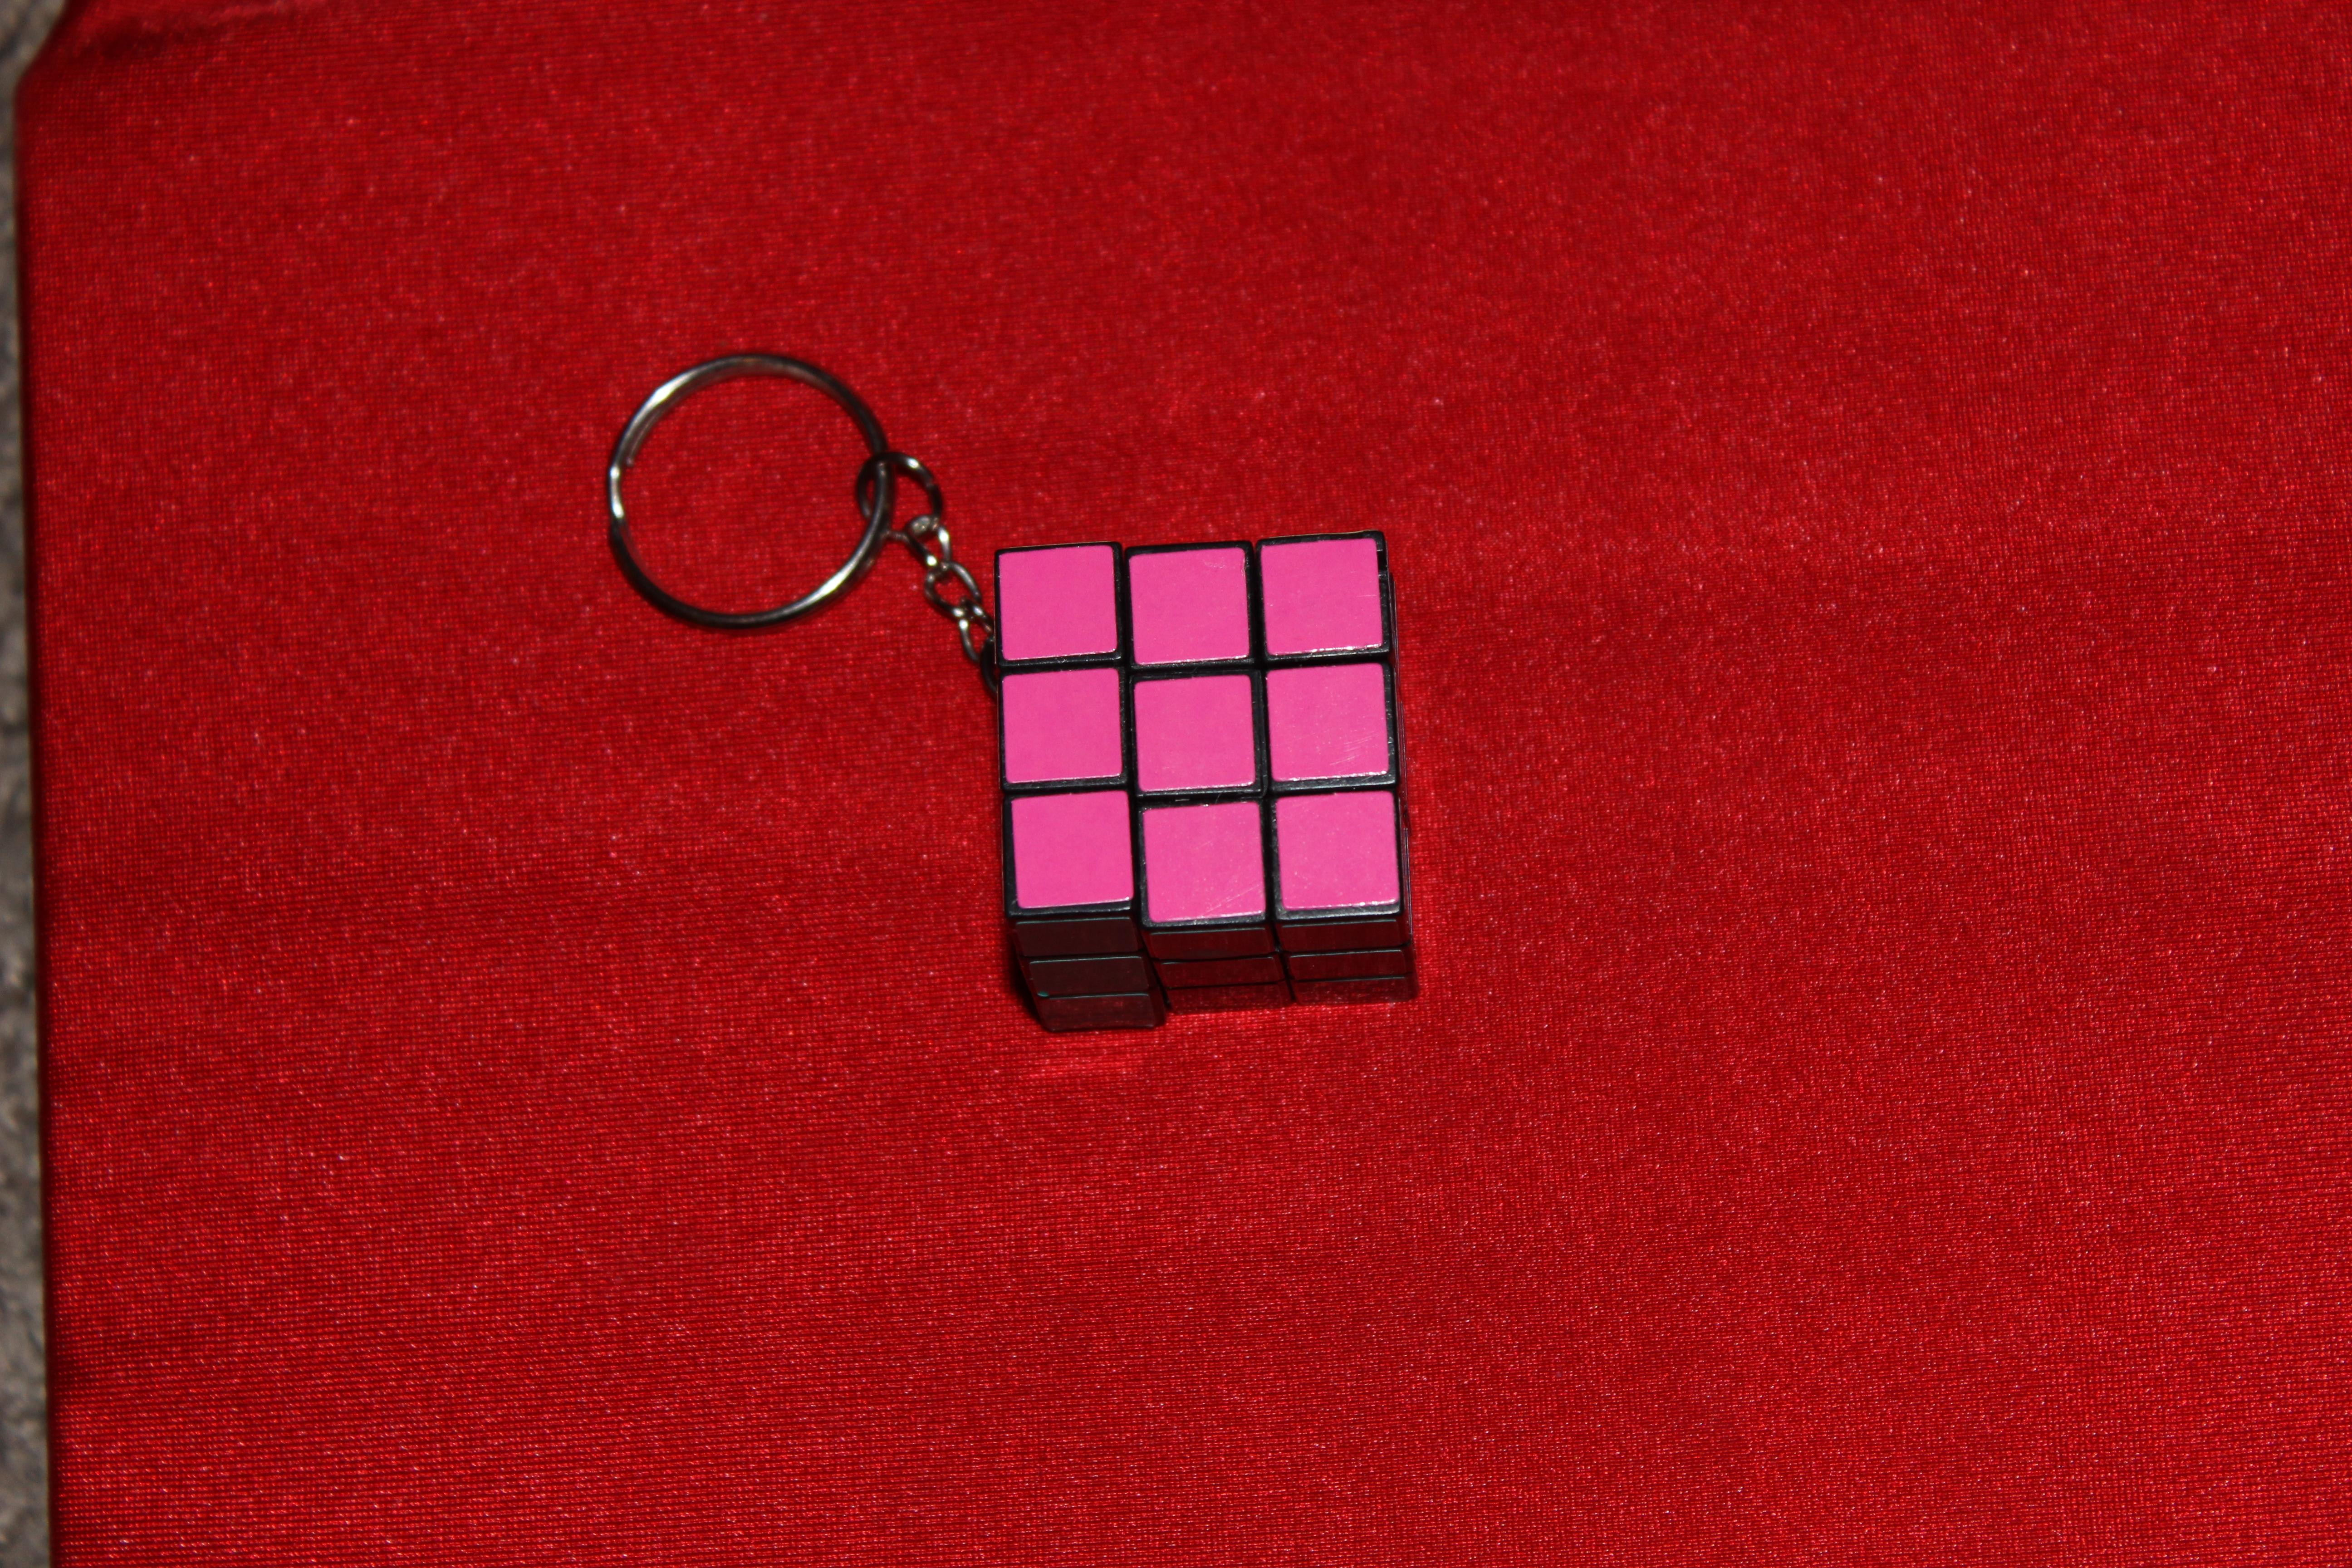rubiksCube: (963, 500, 1456, 1073)
